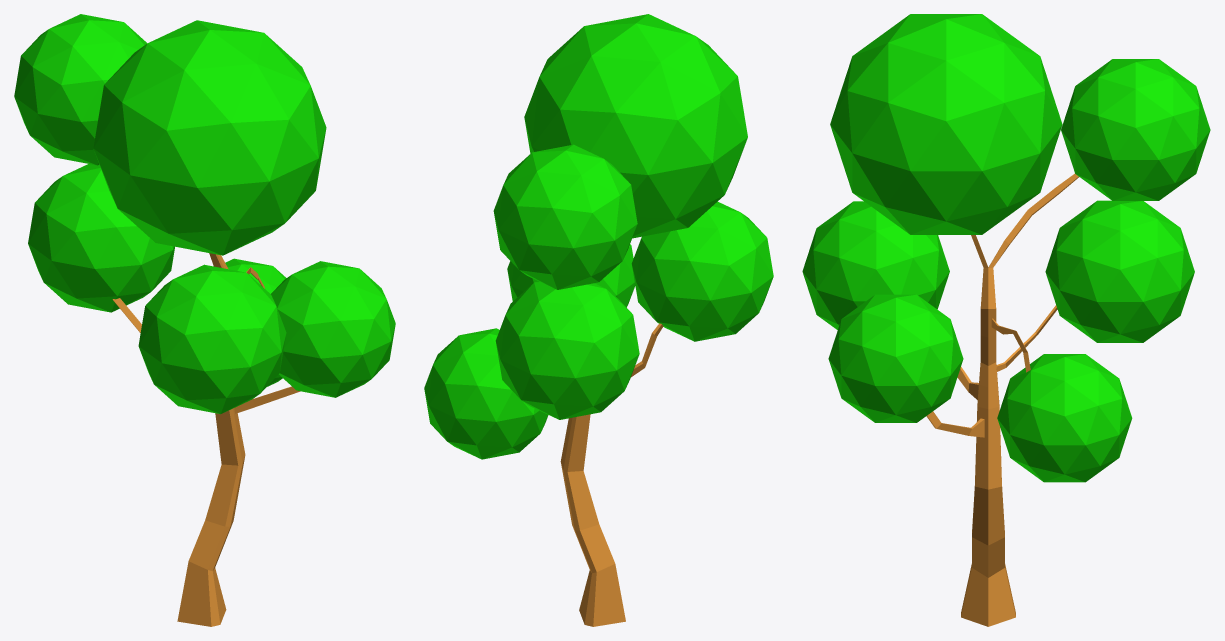
File: rm_static_tree_01.fbx
3 views of the same model, side by side, from view 1: azimuth 30°, elevation 25°; view 2: azimuth 150°, elevation 25°; view 3: azimuth 270°, elevation 25° (orthographic). The views are drawn at different scales.
Visible parts, largest first — view 1: RM_Static_Tree_01_Leaves, RM_Static_Tree_01; view 2: RM_Static_Tree_01_Leaves, RM_Static_Tree_01; view 3: RM_Static_Tree_01_Leaves, RM_Static_Tree_01.
Boxes of the visible parts, bbox=[...] form: RM_Static_Tree_01_Leaves: bbox=[14, 14, 395, 414]; RM_Static_Tree_01: bbox=[112, 253, 300, 626]; RM_Static_Tree_01_Leaves: bbox=[424, 14, 773, 459]; RM_Static_Tree_01: bbox=[560, 323, 663, 626]; RM_Static_Tree_01_Leaves: bbox=[802, 14, 1210, 482]; RM_Static_Tree_01: bbox=[926, 173, 1078, 626].
Size of the model in its own units: 1011 by 2361 by 1481.
